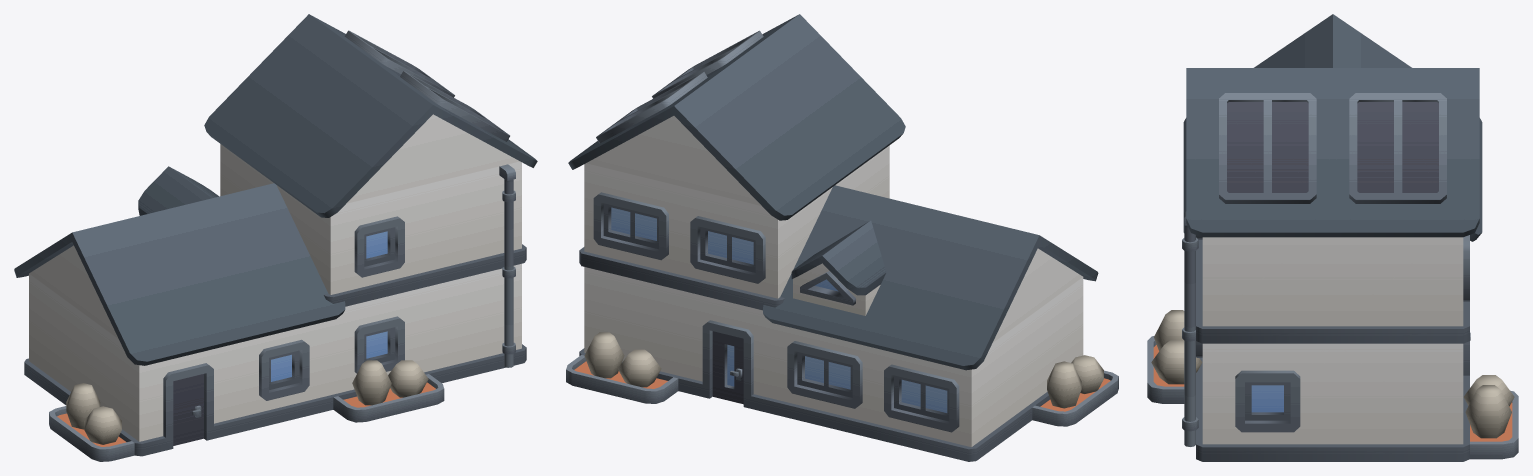
Rendered from sub-building-type-b.glb.
The picture shows the model from 3 angles, left to right: view 1: azimuth 30°, elevation 25°; view 2: azimuth 150°, elevation 25°; view 3: azimuth 270°, elevation 25°; orthographic projection. The views are drawn at different scales.
Visible parts, largest first — view 1: building-type-b; view 2: building-type-b; view 3: building-type-b.
Part boxes in pixels (bbox=[...]): building-type-b: bbox=[14, 14, 537, 461]; building-type-b: bbox=[566, 14, 1118, 461]; building-type-b: bbox=[1147, 14, 1518, 461].
Size of the model in its own units: 1.83 by 1.14 by 1.14.
Materials: 1 (1 with a texture image).
